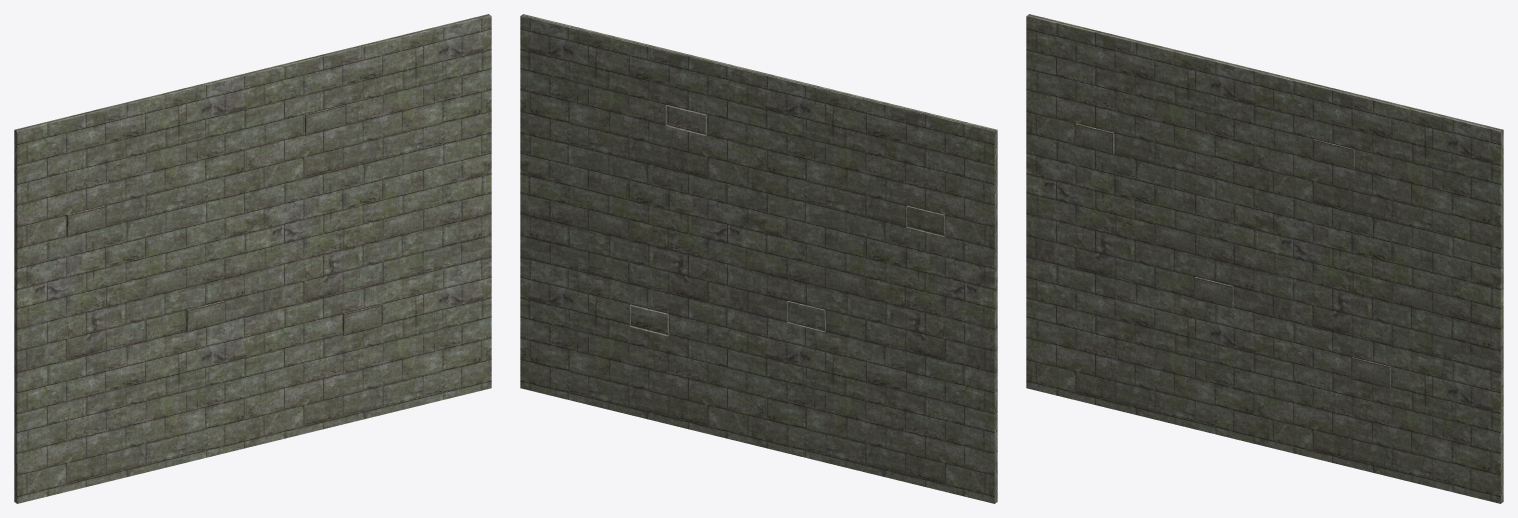
File: wall01-var.fbx
3 views of the same model, side by side, from view 1: azimuth 30°, elevation 25°; view 2: azimuth 150°, elevation 25°; view 3: azimuth 330°, elevation 25° (orthographic).
Visible parts, largest first — view 1: Mesh Object; view 2: Mesh Object; view 3: Mesh Object.
Part boxes in pixels (x1,y1,x2,y2): Mesh Object: (14,14,491,503); Mesh Object: (520,14,997,503); Mesh Object: (1026,14,1503,503).
Size of the model in its own units: 4 by 3 by 0.077.
